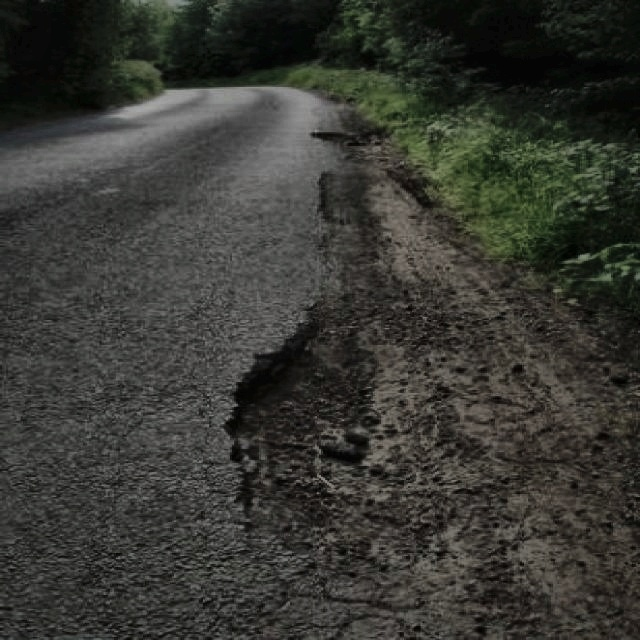Pothole: (218, 301, 474, 586)
